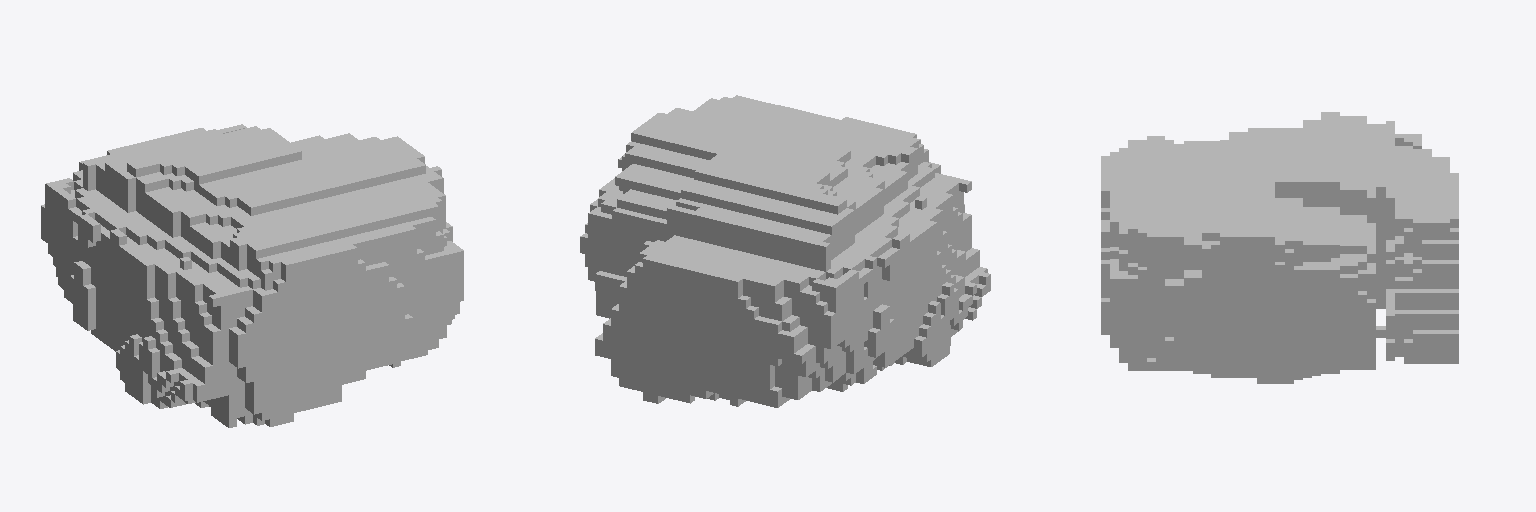
Rendered from Asteroid.obj.
The picture shows the model from 3 angles: view 1: azimuth 30°, elevation 25°; view 2: azimuth 150°, elevation 25°; view 3: azimuth 270°, elevation 25°; orthographic projection.
Visible parts, largest first — view 1: Asteroid; view 2: Asteroid; view 3: Asteroid.
Part boxes in pixels (x1,y1,x2,y2): Asteroid: (41, 124, 463, 427); Asteroid: (580, 95, 990, 407); Asteroid: (1101, 112, 1458, 383).
Size of the model in its own units: 37 by 23 by 39.